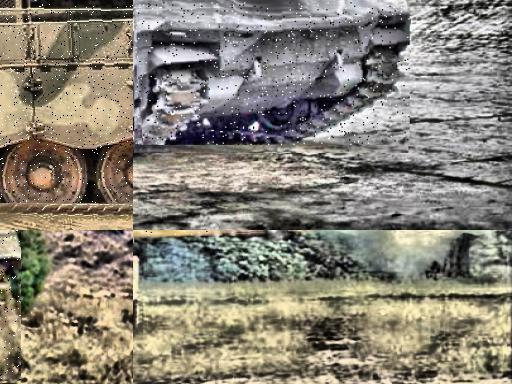tanks: (135, 4, 411, 146), (1, 9, 134, 204), (135, 232, 265, 237), (134, 258, 138, 306)
